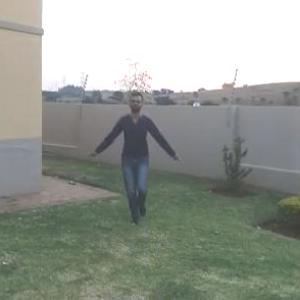land: (93, 95, 178, 216)
